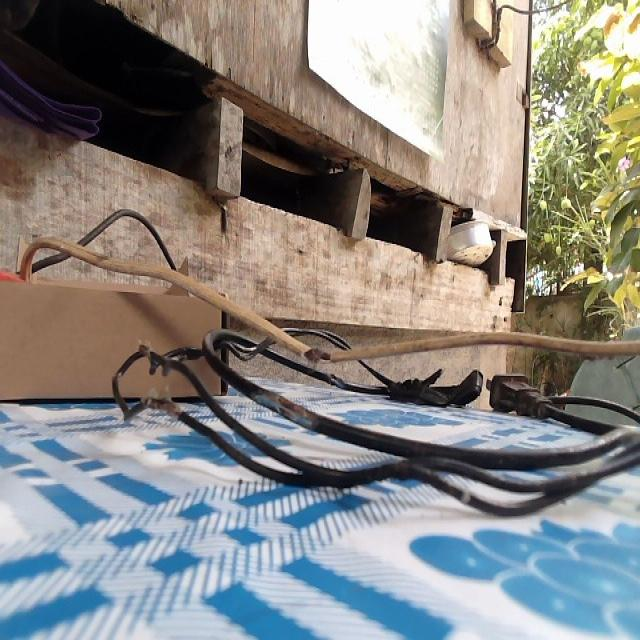-: (250, 388, 315, 425), (140, 392, 182, 419), (305, 344, 333, 363)
